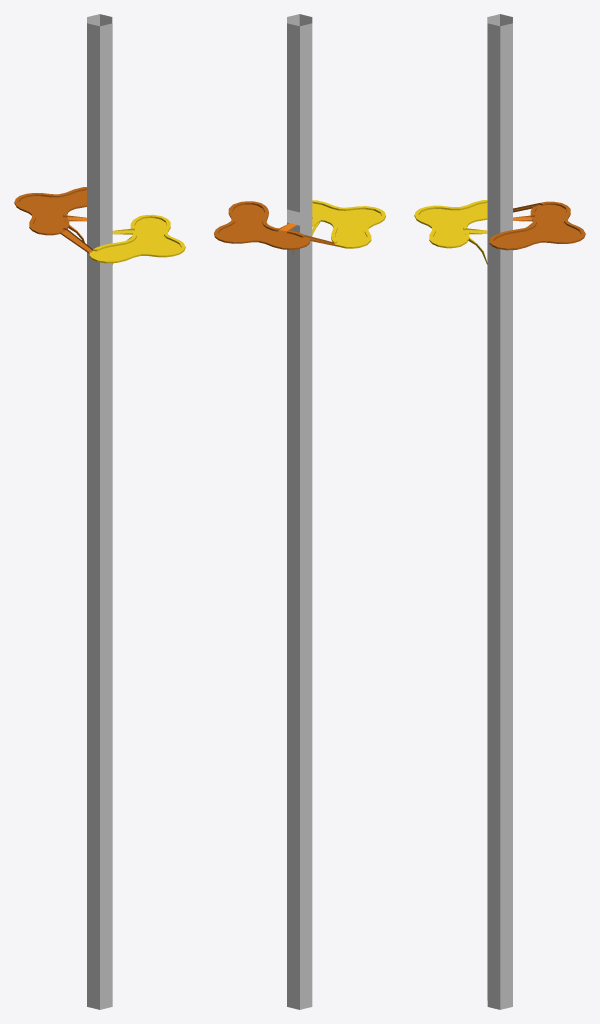
File: Space Elevator with Platforms.fbx
3 views of the same model, side by side, from view 1: azimuth 90°, elevation 25°; view 2: azimuth 150°, elevation 25°; view 3: azimuth 270°, elevation 25° (orthographic).
Visible parts, largest first — view 1: Space Elevator, Platforms; view 2: Space Elevator, Platforms; view 3: Space Elevator, Platforms.
Boxes of the visible parts, x1=… form: Space Elevator: x1=87, y1=14, x2=112, y2=1009; Platforms: x1=14, y1=187, x2=185, y2=264; Space Elevator: x1=287, y1=14, x2=312, y2=1009; Platforms: x1=214, y1=200, x2=385, y2=255; Space Elevator: x1=487, y1=14, x2=512, y2=1009; Platforms: x1=414, y1=200, x2=585, y2=264.
Size of the model in its own units: 10022 by 11661 by 74005.
